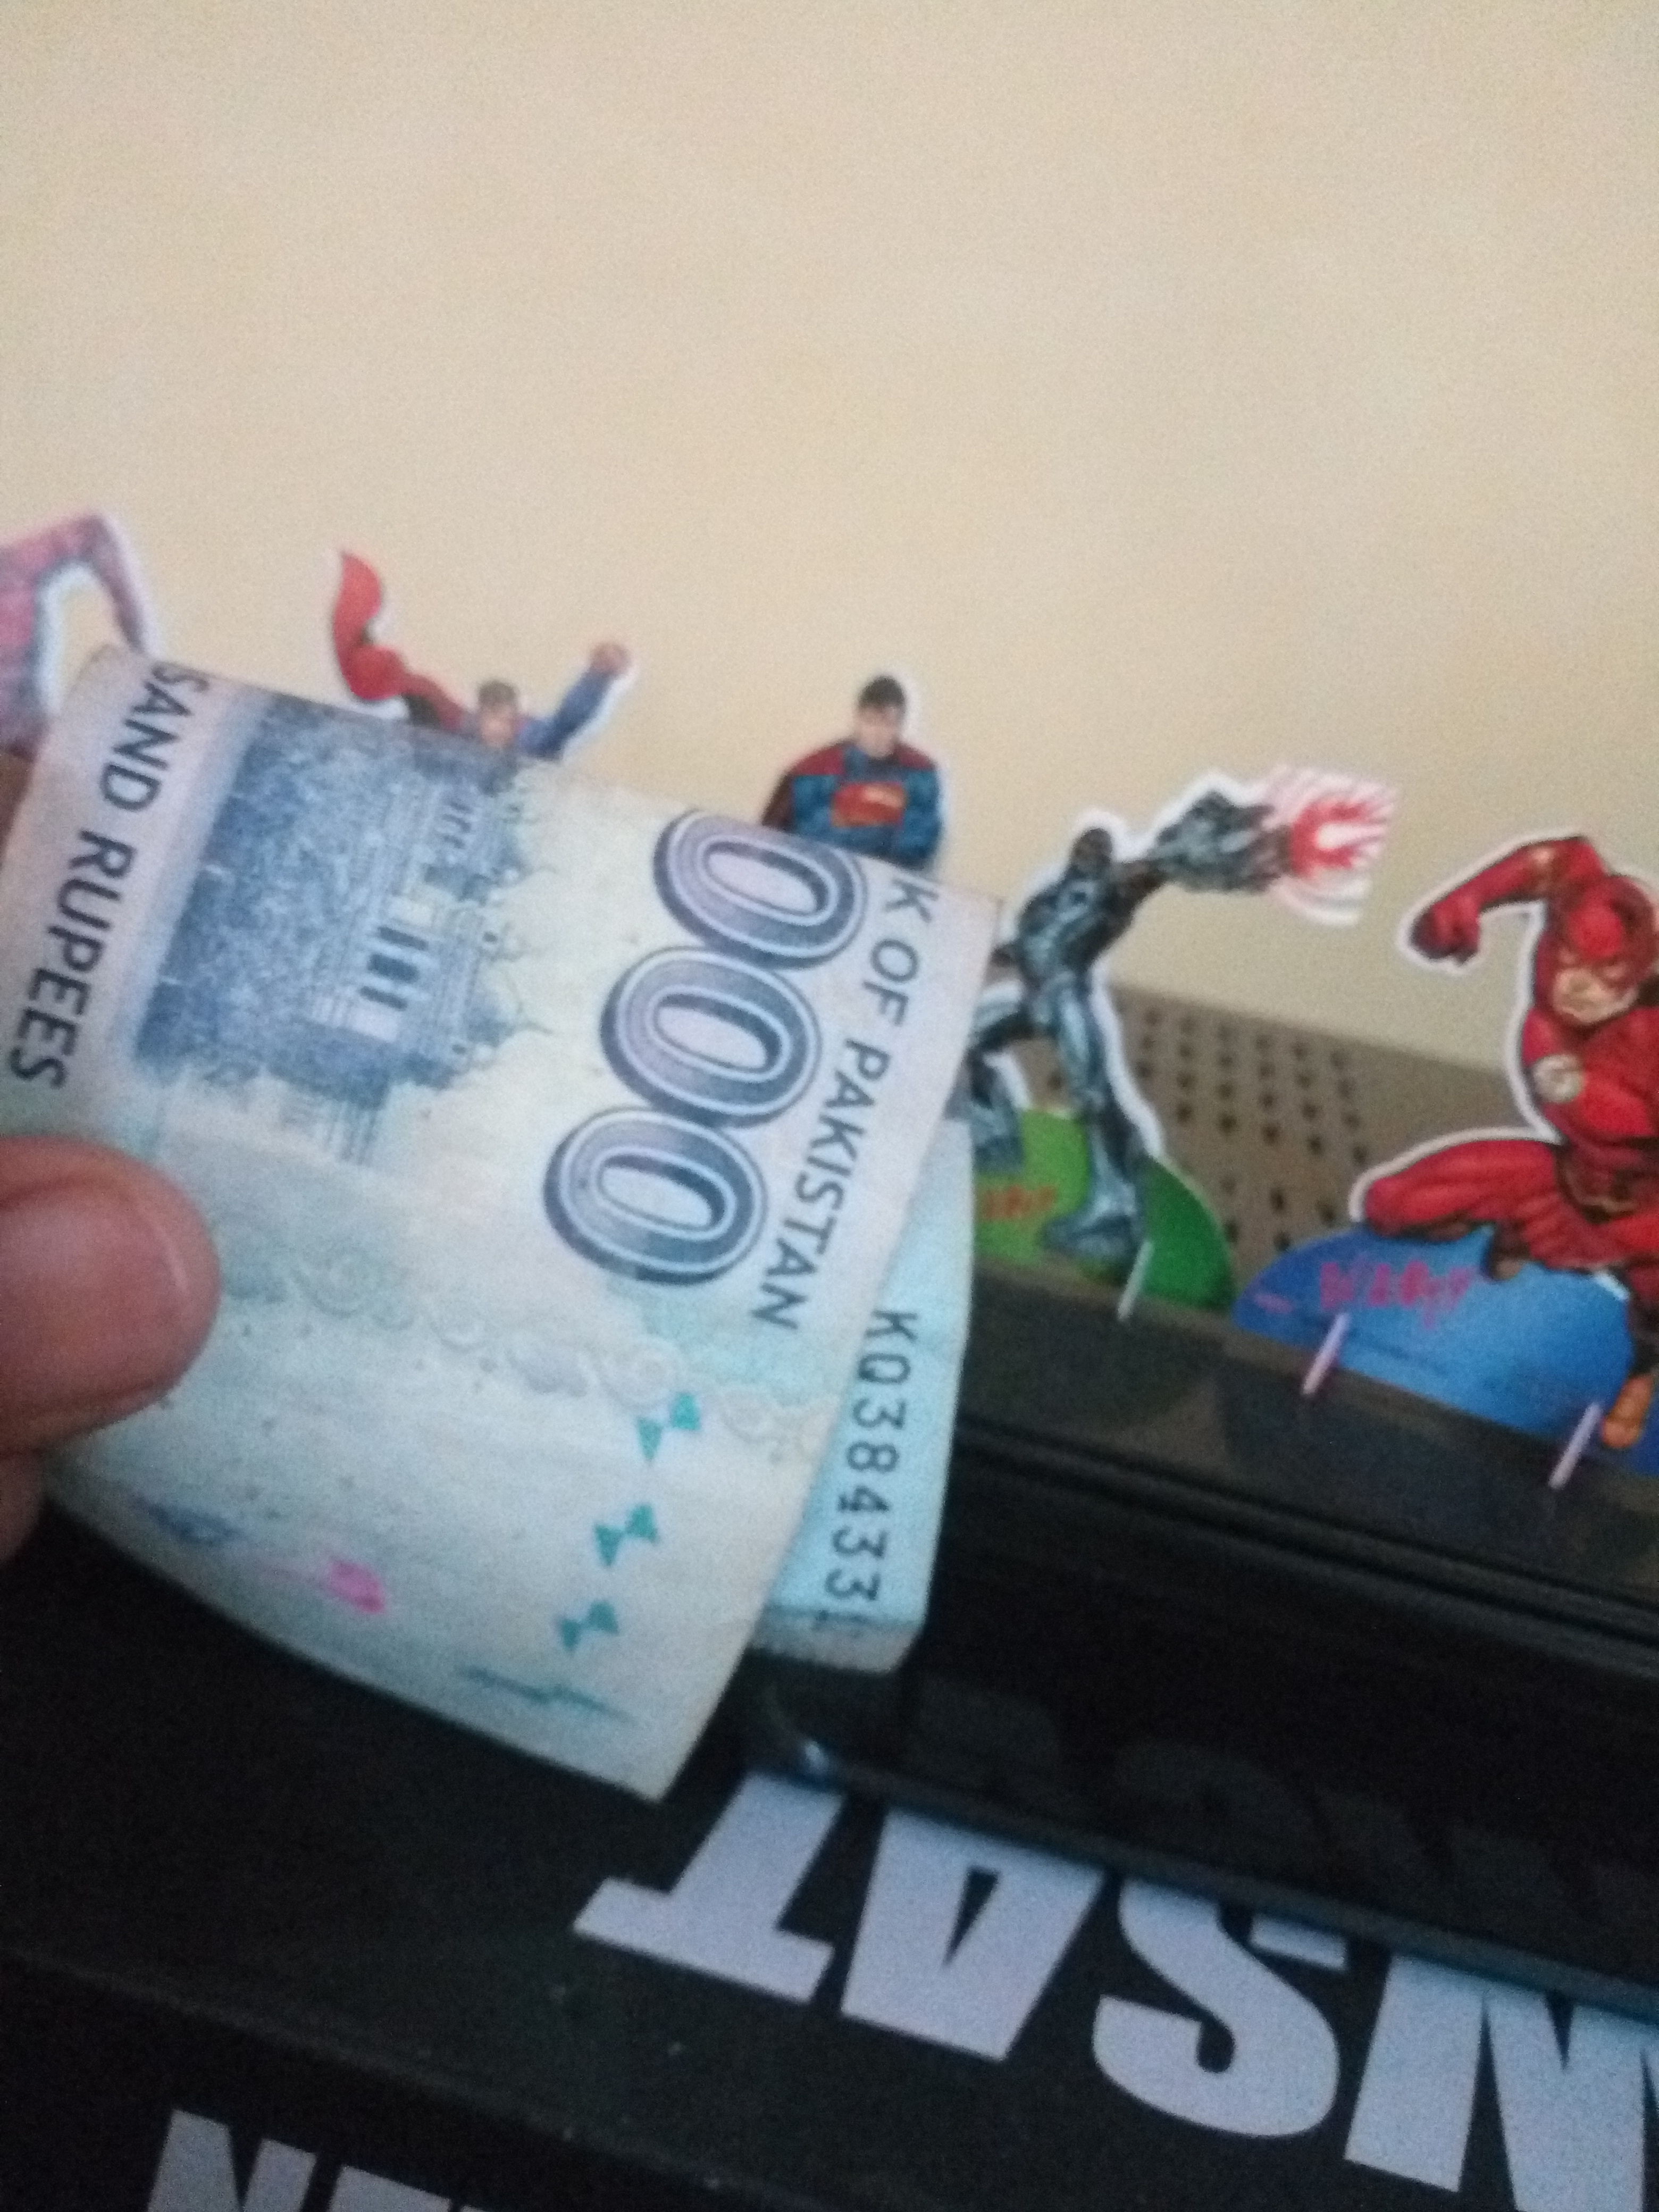1000 rupee: (24, 672, 1056, 1770)
